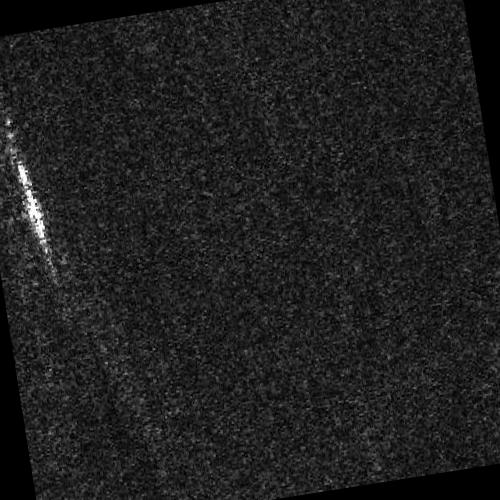ship: (16, 160, 48, 254)
